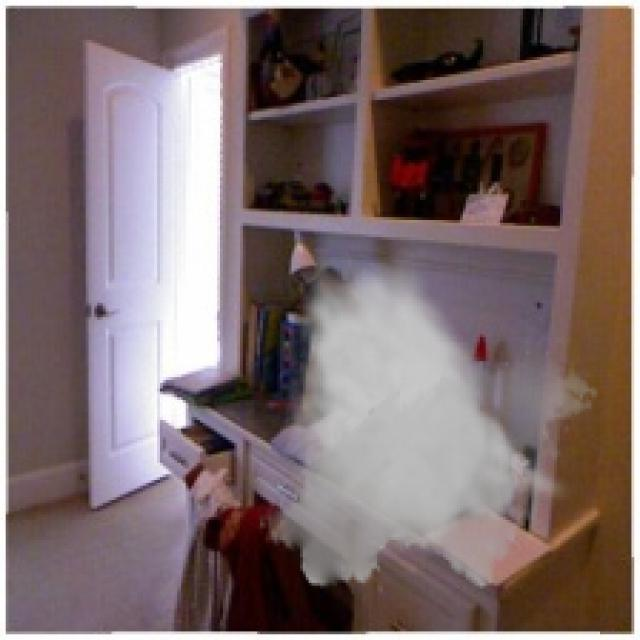smoke: (257, 249, 600, 597)
